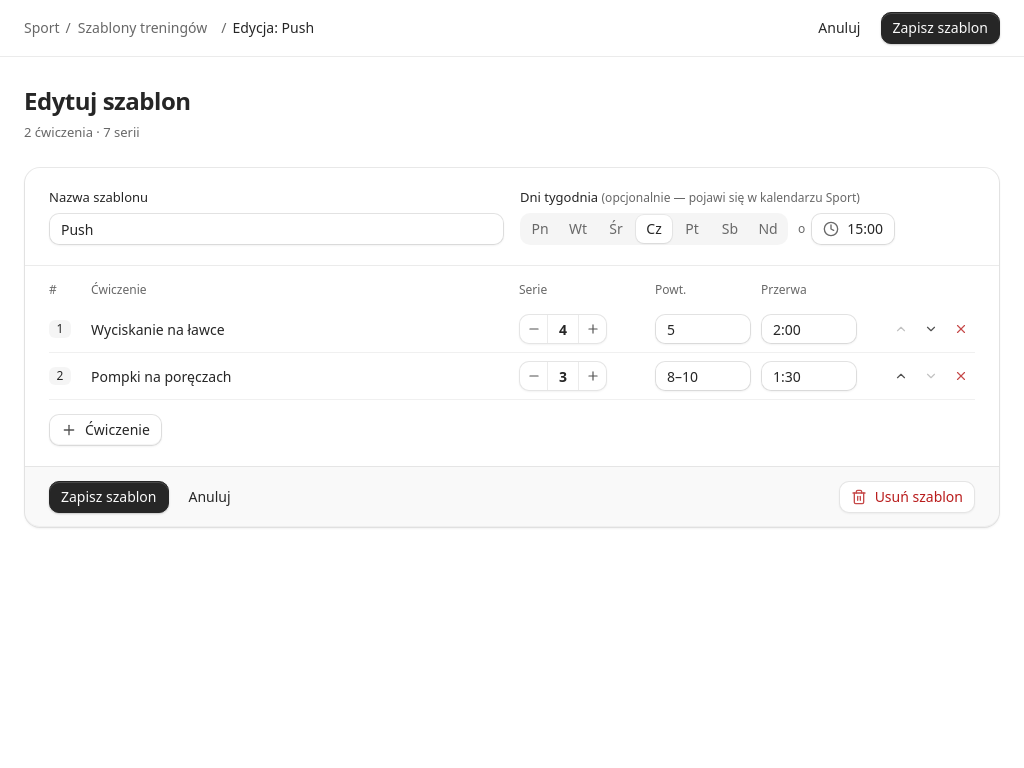
Test: TemplateEditor — istniejący szablon › ścieżka „Edycja: X” na żywo, wypełnione pola, przerwa jako m:ss
The width and height of the screenshot is (1024, 768).
Expected: the text "Edycja: Push" is shown, [232,18,314,38]
Expected: the button named "Godzina startu" reads "15:00", [811,213,895,245]
Clear the field labelled "Nazwa szablonu" at (276, 229), box [49,213,504,245]
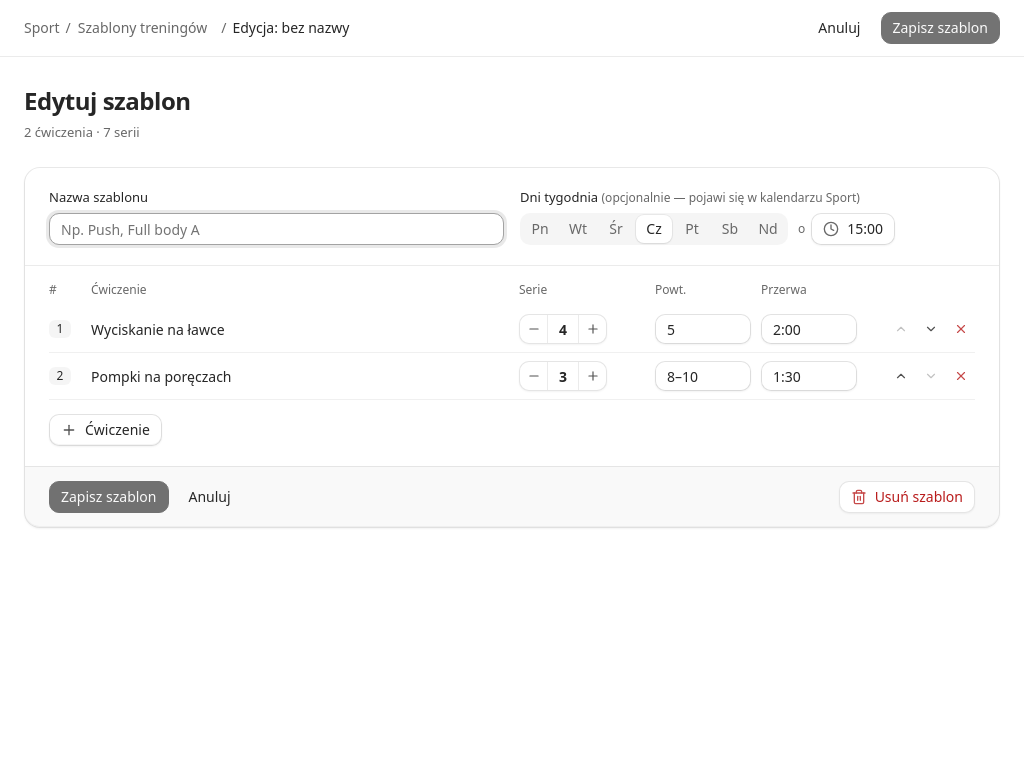
Expected: the text "Edycja: bez nazwy" is shown, [232,18,349,38]
